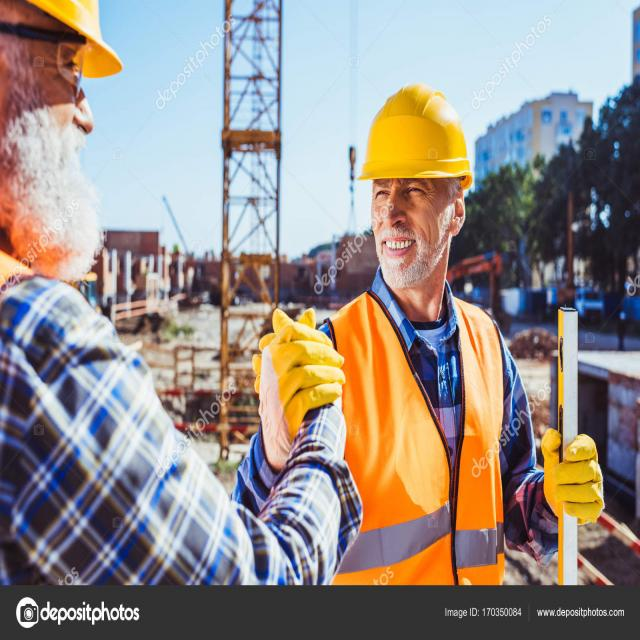Reflective-Jacket: (313, 288, 509, 585)
Safety-Helmet: (354, 78, 474, 188), (4, 0, 126, 83)
